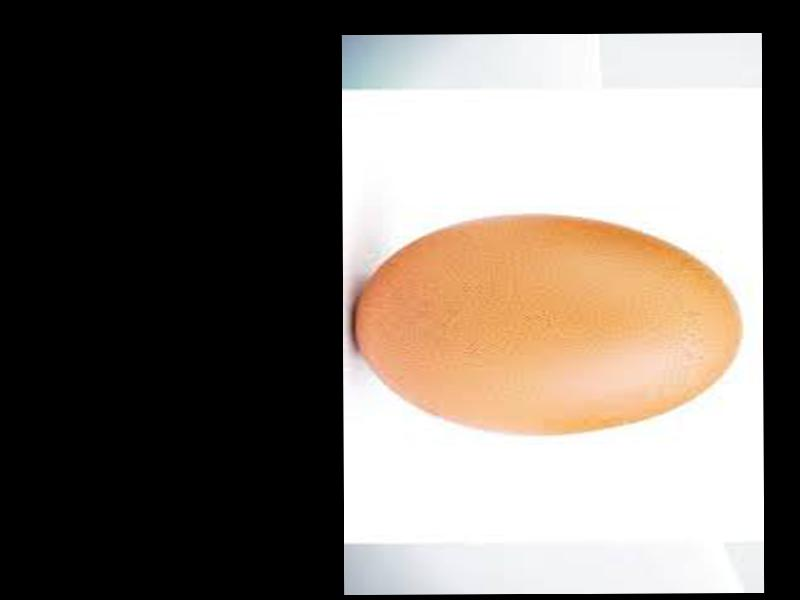Eggs: (354, 213, 740, 435)
